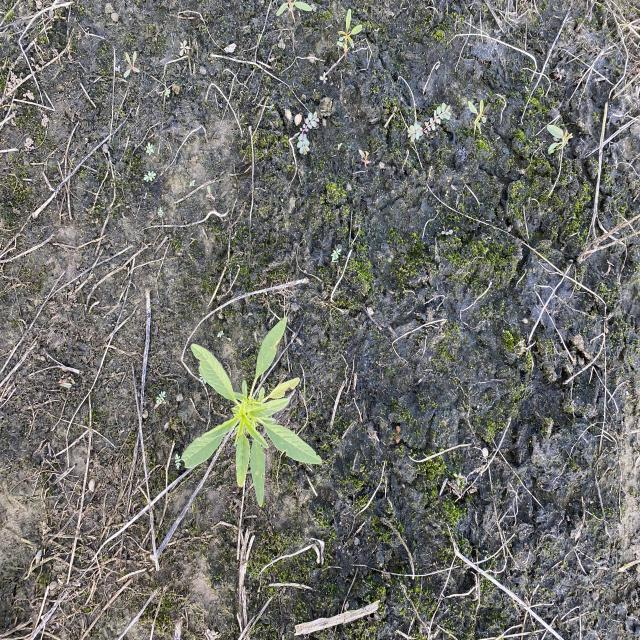SpottedSpurge: (406, 99, 454, 144), (298, 109, 320, 155)
Waterhemp: (180, 315, 323, 508)
